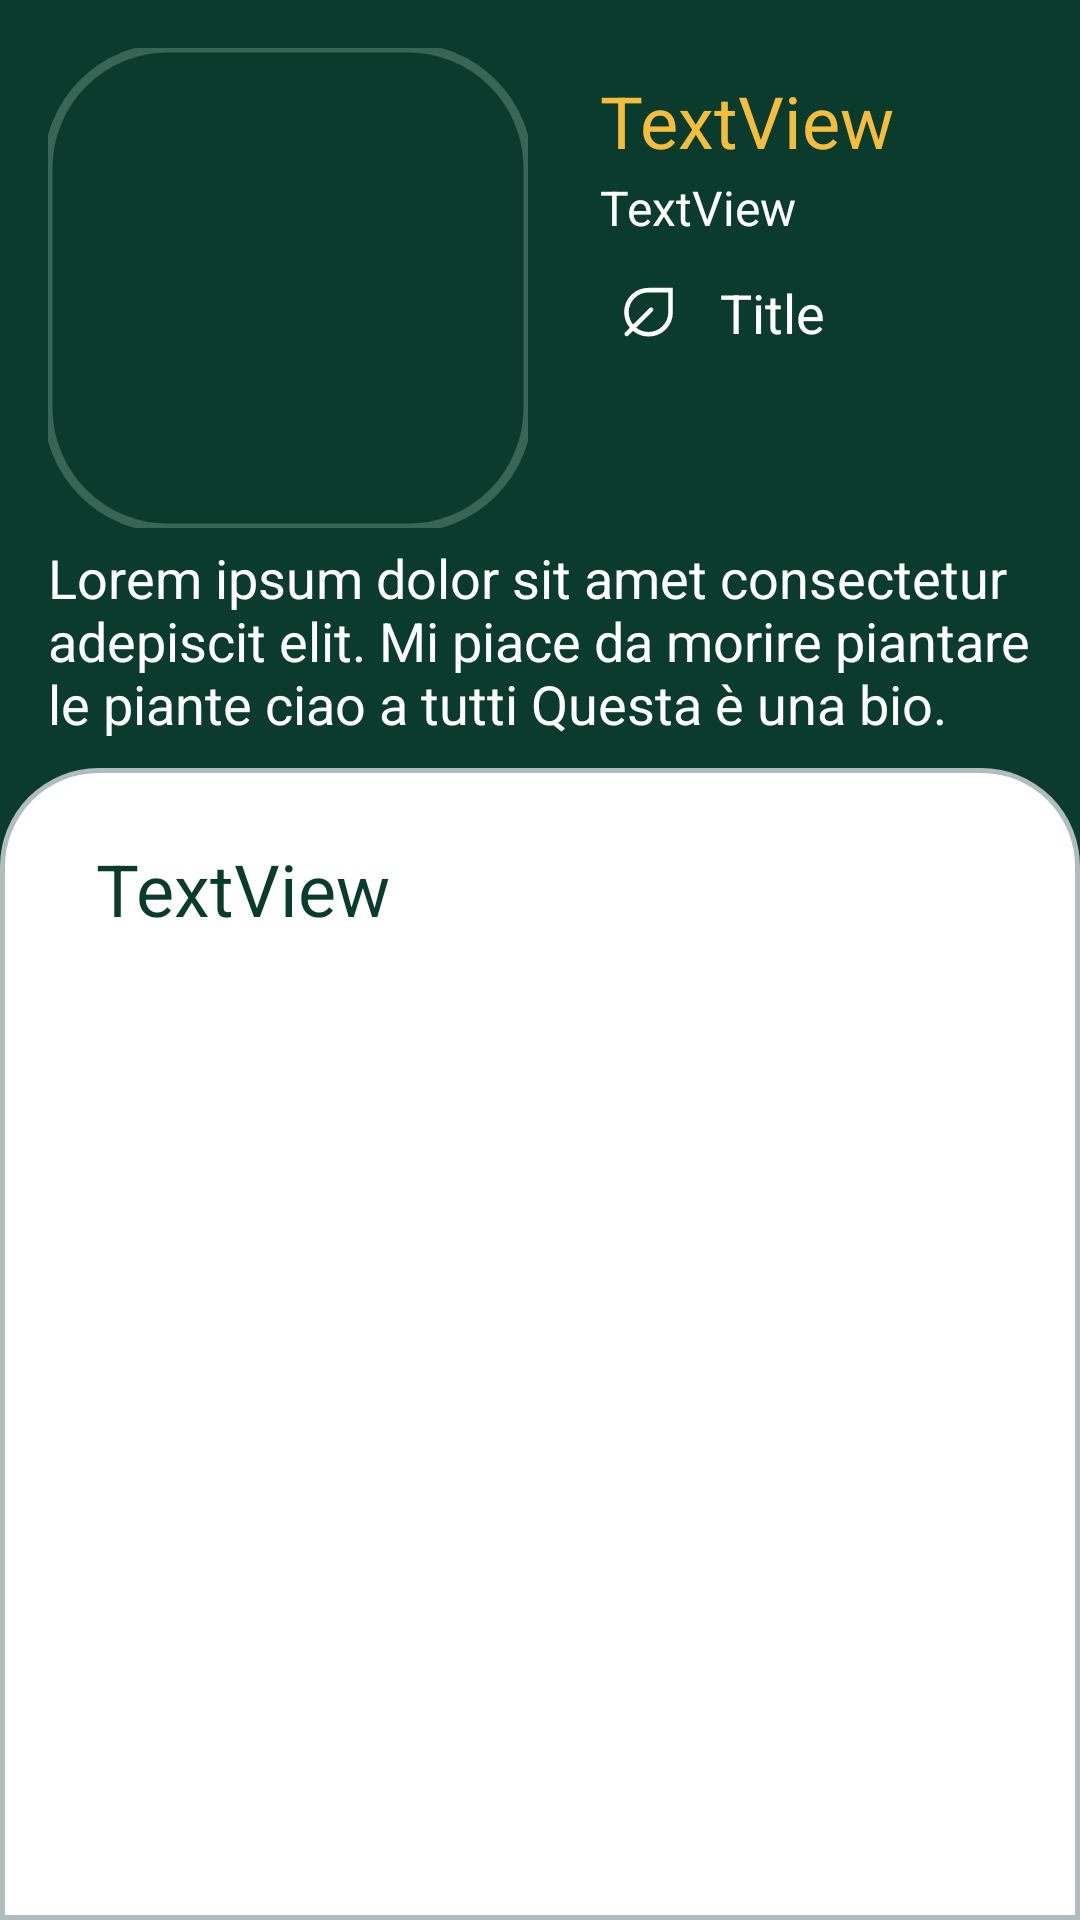

Where to tap for icons on this 1080x1920 app screen, as point (x, y):
nest eco leaf: point (648, 312)
